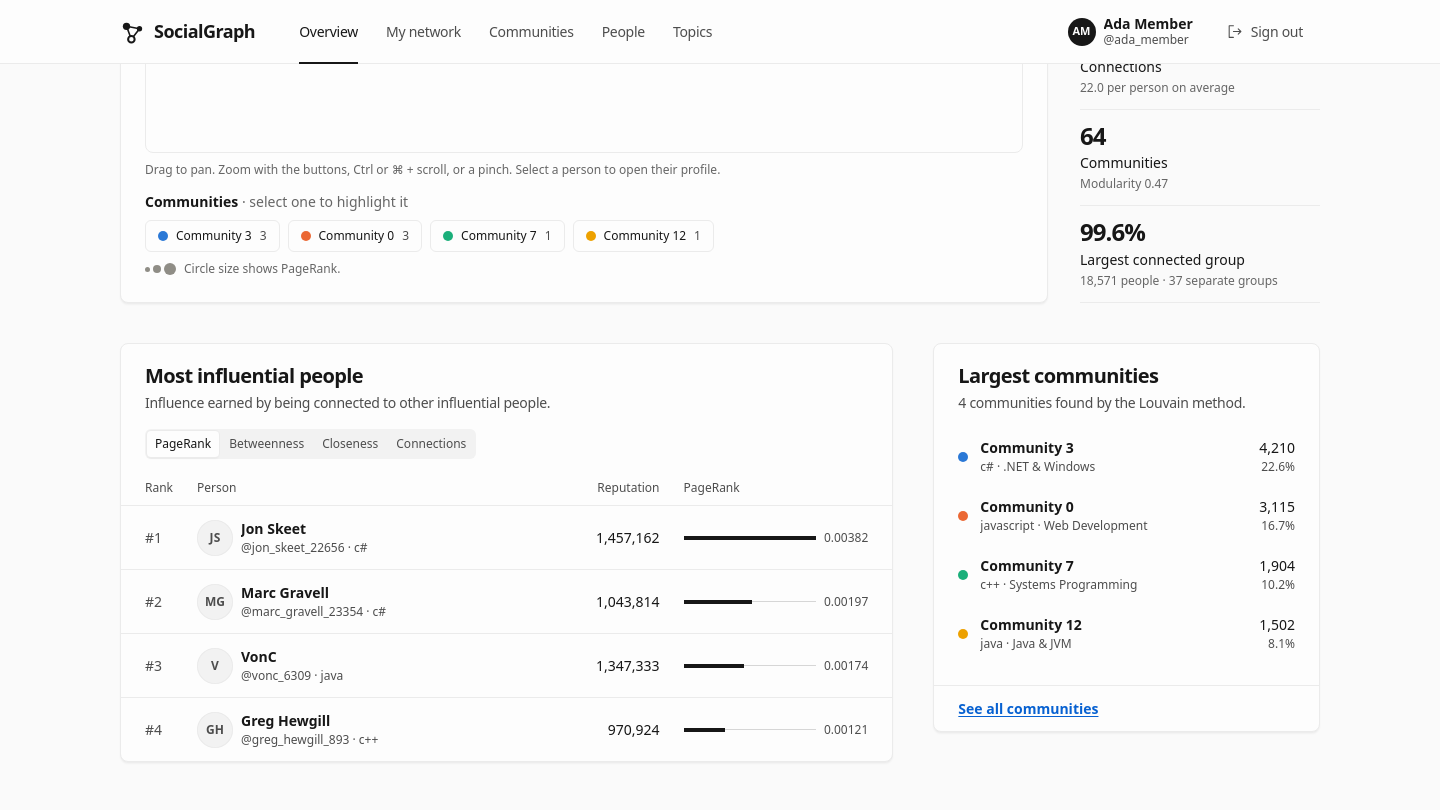
Scenario: Overview › ranks influencers and switches the measure
This screenshot has width=1440, height=810.
(page scrolled)
Expected: the row "#1 JS Jon Skeet @jon_skeet_22656 · c# 1,457,162 0.00382" is shown, [121,506,892,570]
What coordinates should you click on to do the following:
click the radio button labelled "Betweenness"
I would click on:
 (267, 444)
Its box is [229,435,304,452].
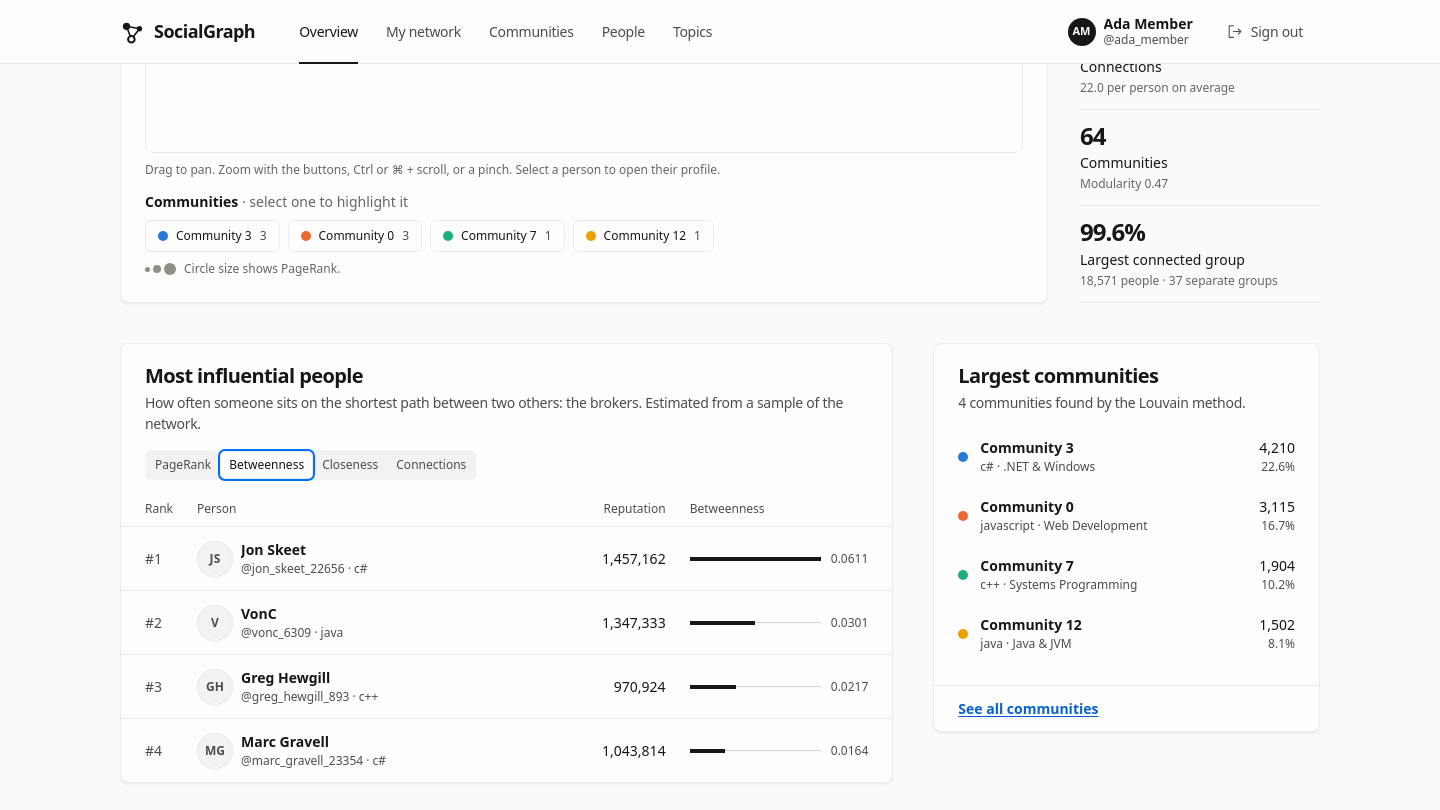
Expected: the table named "Most influential people by Betweenness" is shown, [121,492,892,782]
Expected: the column heading "Betweenness" is shown, [678,492,892,527]
Expected: the text "Estimated from a sample of the network." is shown, [145,393,843,433]
What coordinates should you click on to do the following:
click the radio button labelled "Connections"
I would click on:
 (431, 465)
Its box is [396,456,466,473].
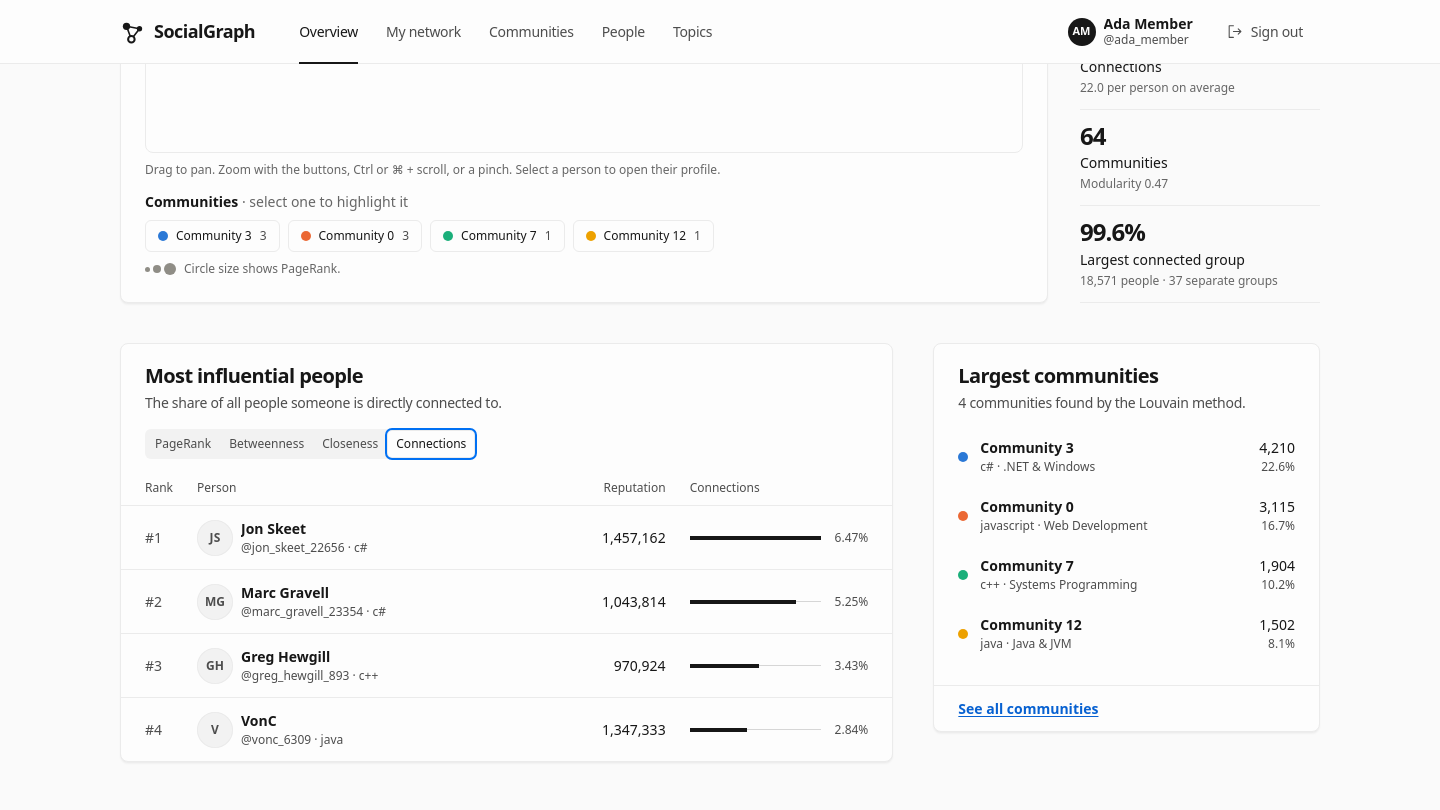
Expected: the column heading "Connections" is shown, [678,471,892,506]
